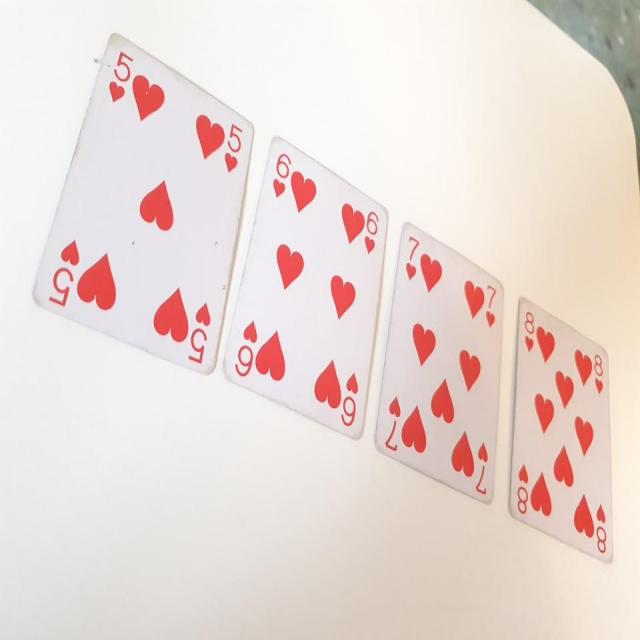5 Hearts: (28, 17, 253, 388)
6 Hearts: (222, 122, 390, 449)
7 Hearts: (370, 209, 505, 502)
8 Hearts: (509, 289, 622, 565)
